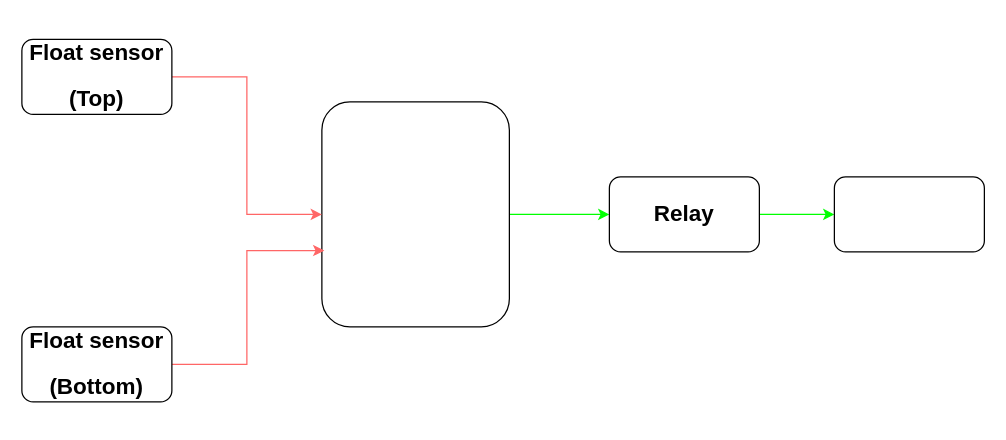
Some shapes in this 1006 by 440 pixel diagram are drawn without their labels. The box of each missing label's shape, as (x1, y1, x2, y2) in pixels:
Atmega328 Microcontroller: (321, 101, 509, 327)
Motor / Pump: (833, 176, 984, 252)
